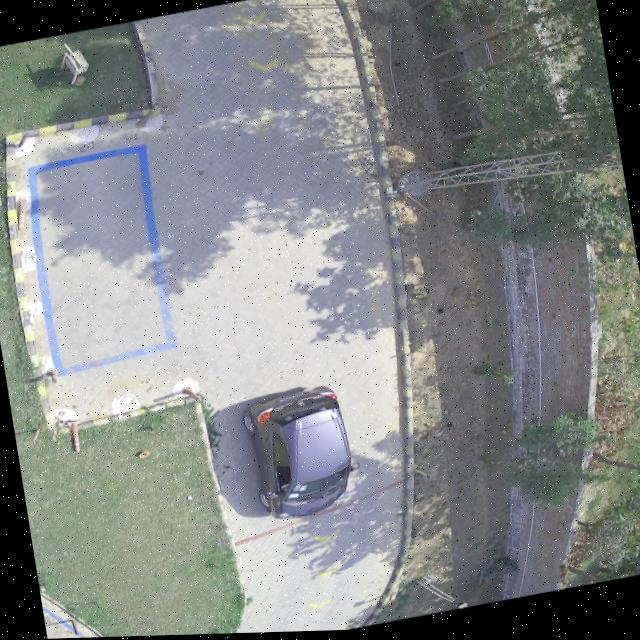car: (242, 388, 357, 522)
